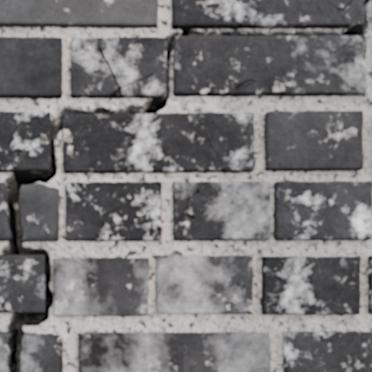brick: (174, 36, 365, 95), (64, 113, 253, 172), (79, 333, 269, 371), (71, 38, 165, 97), (265, 112, 362, 169), (275, 182, 371, 239), (66, 182, 160, 240), (262, 257, 359, 313), (174, 182, 269, 239), (157, 256, 252, 312), (53, 258, 148, 314), (173, 0, 348, 28), (0, 0, 157, 27), (0, 38, 61, 97), (284, 332, 371, 371), (0, 112, 49, 171), (0, 256, 43, 311), (340, 0, 363, 27), (368, 256, 371, 312)
broken_brick: (20, 183, 59, 242), (21, 331, 63, 371), (0, 182, 8, 241), (0, 331, 8, 371)
crack: (0, 0, 371, 371), (97, 45, 153, 96), (204, 132, 232, 171), (174, 188, 200, 223)
